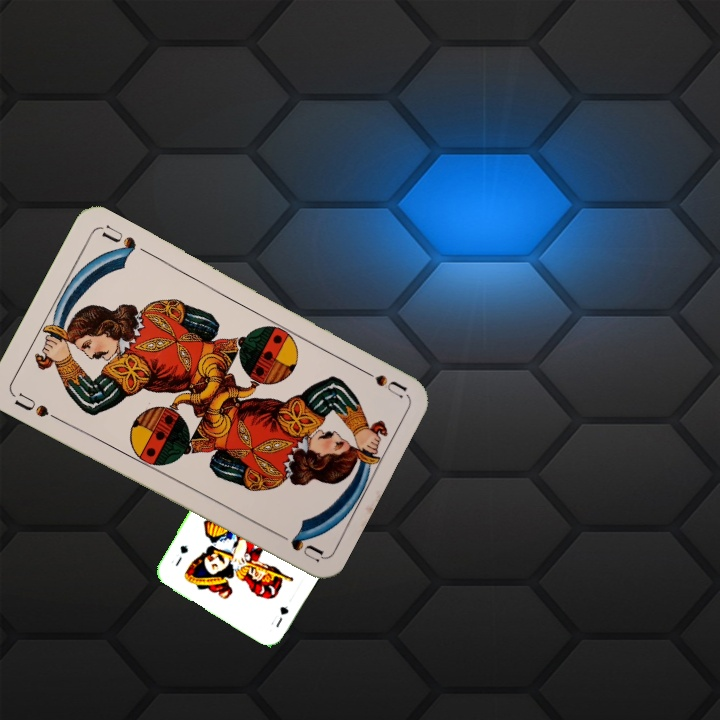GU: (267, 601, 291, 630)
SU: (353, 362, 409, 401), (9, 388, 64, 424)
